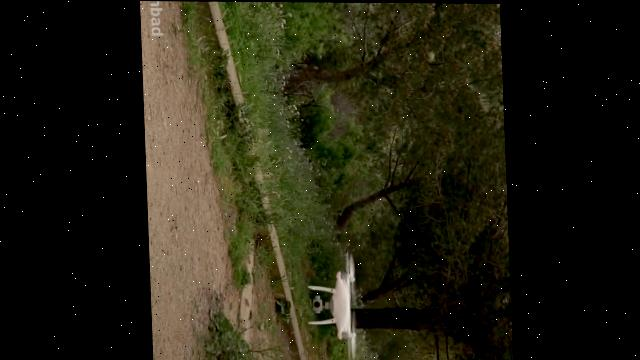drone: (305, 250, 356, 360)
